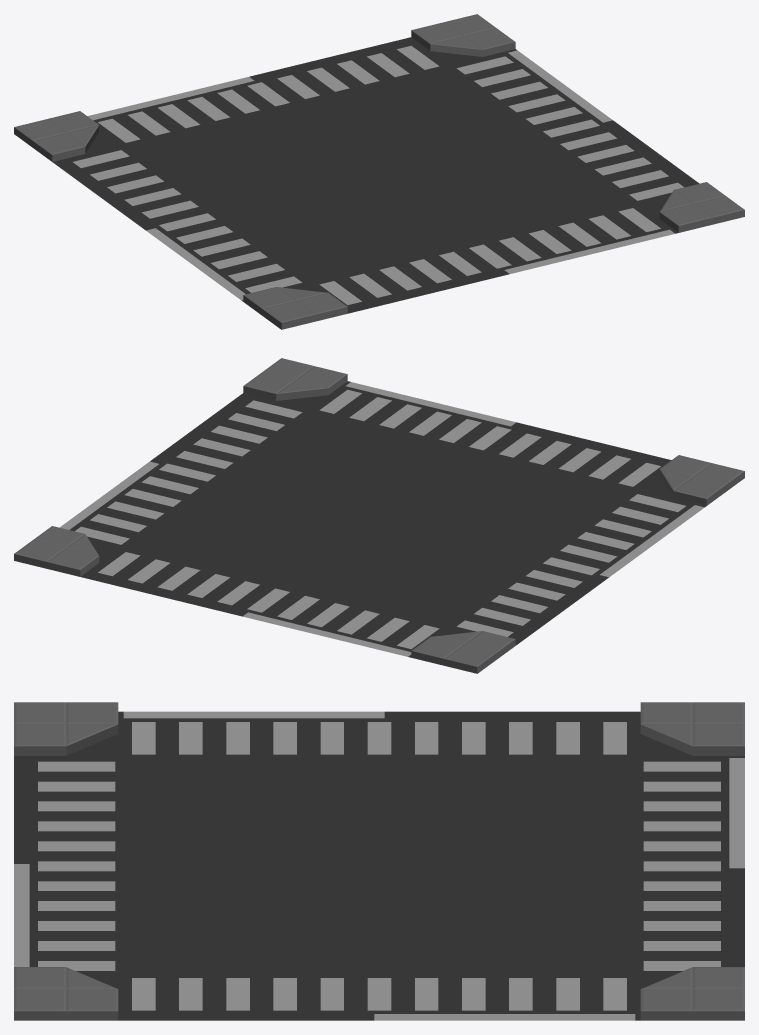
The model's file is Road Cross.fbx.
3 views of the same model, one above another, from view 1: azimuth 30°, elevation 25°; view 2: azimuth 150°, elevation 25°; view 3: azimuth 270°, elevation 25° (orthographic). The views are drawn at different scales.
Visible parts, largest first — view 1: Cube.014; view 2: Cube.014; view 3: Cube.014.
Boxes of the visible parts, <box> form: Cube.014: <box>14,14,744,329</box>; Cube.014: <box>14,358,744,673</box>; Cube.014: <box>14,702,744,1020</box>.
Bounding box in the file's own units: 1400 × 21 × 1400.
